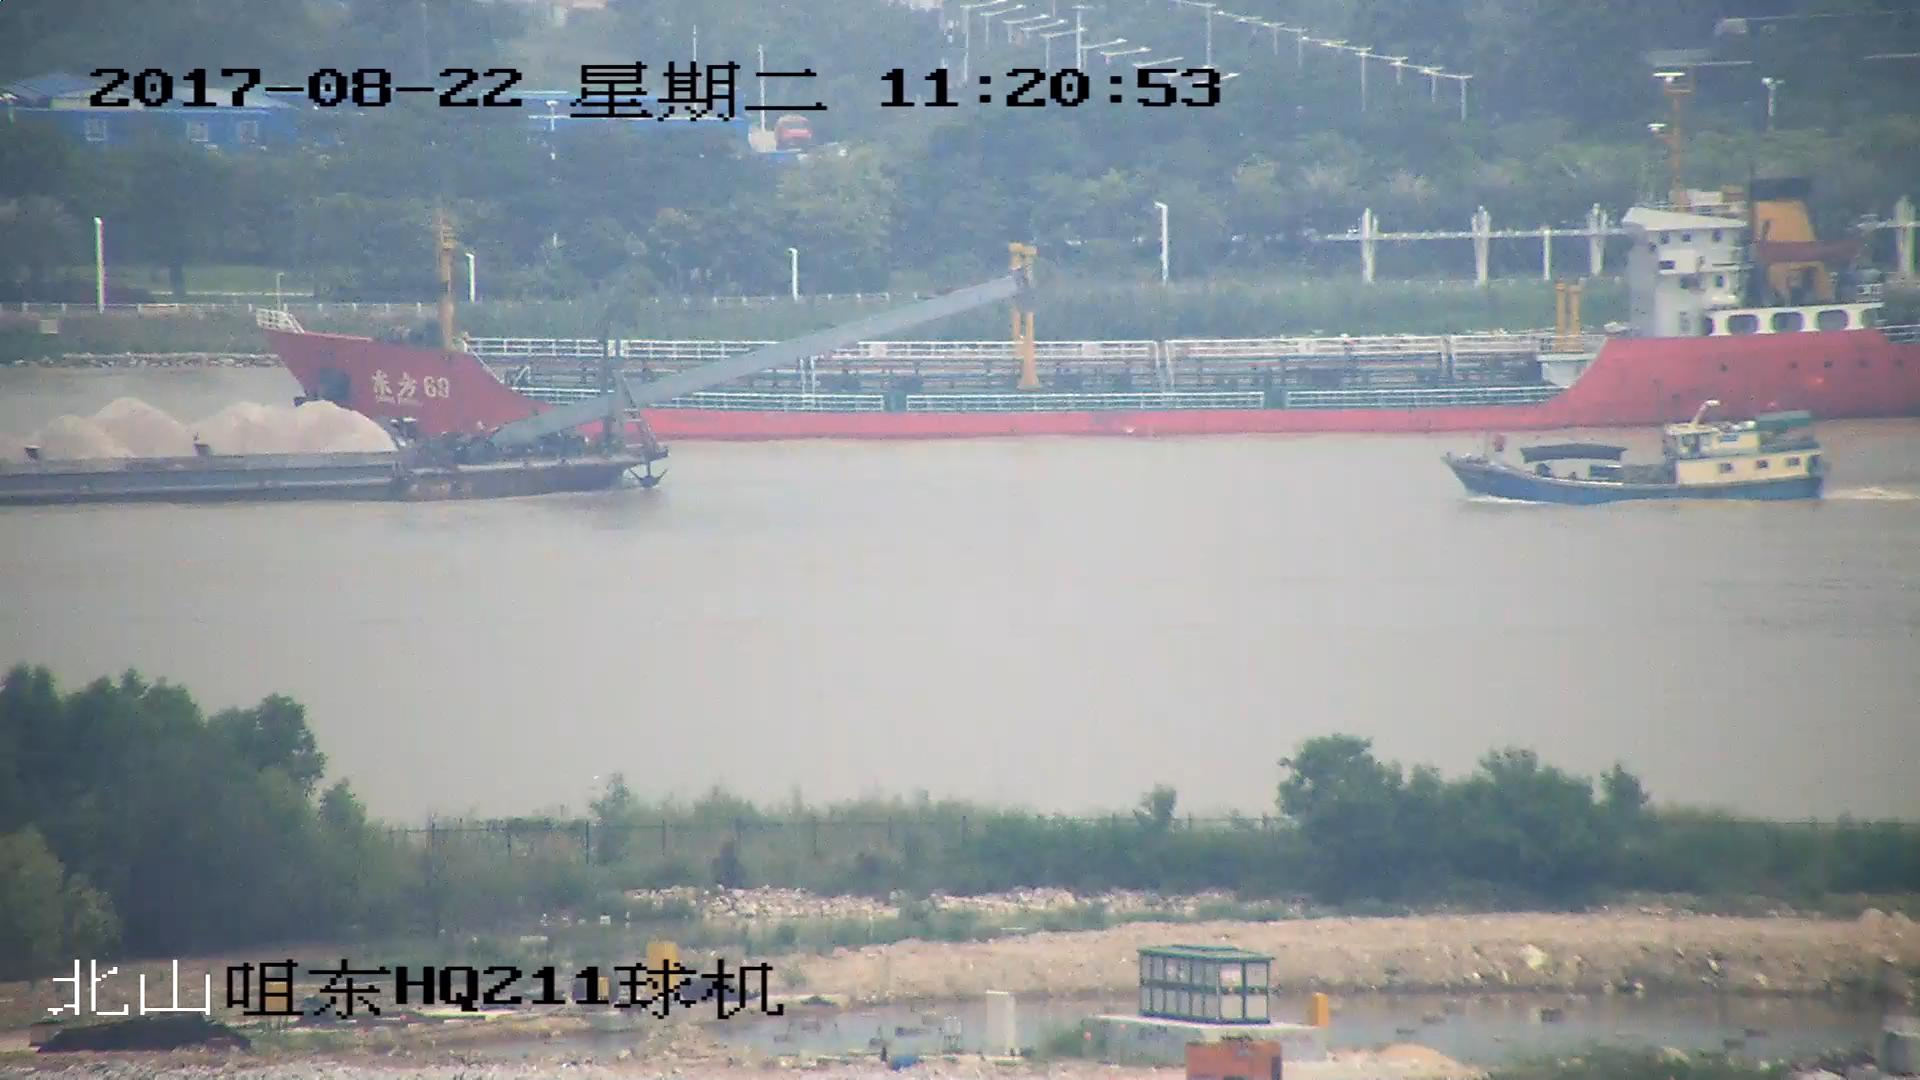fishing boat: (1444, 401, 1827, 503)
general cargo ship: (250, 122, 1920, 439)
ore carrier: (1, 265, 1025, 510)
